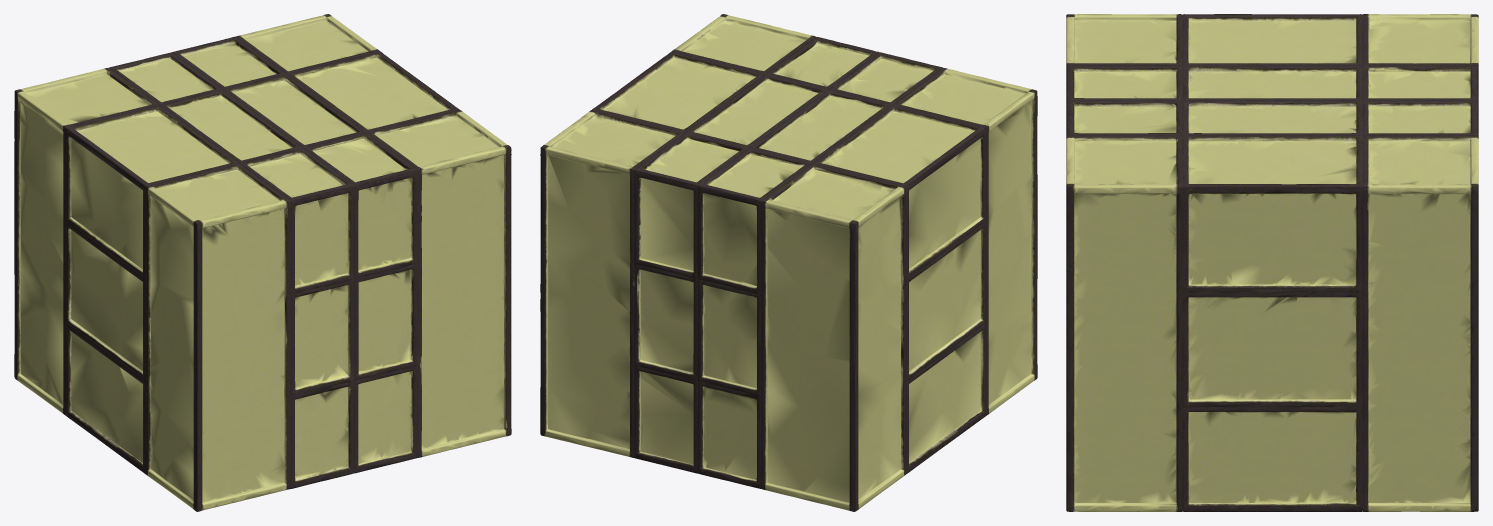
The model's file is JP_사물_s2_floor_tatami_old.glb.
The picture shows the model from 3 angles, left to right: view 1: azimuth 30°, elevation 25°; view 2: azimuth 150°, elevation 25°; view 3: azimuth 270°, elevation 25°; orthographic projection. The views are drawn at different scales.
Visible parts, largest first — view 1: tripo_node_92d0bea3-d5a4-40ef-96d4-fb2fc2e6be92; view 2: tripo_node_92d0bea3-d5a4-40ef-96d4-fb2fc2e6be92; view 3: tripo_node_92d0bea3-d5a4-40ef-96d4-fb2fc2e6be92.
Boxes of the visible parts, x1,y1,x2,y2 form: tripo_node_92d0bea3-d5a4-40ef-96d4-fb2fc2e6be92: (14,14,511,511); tripo_node_92d0bea3-d5a4-40ef-96d4-fb2fc2e6be92: (540,14,1037,511); tripo_node_92d0bea3-d5a4-40ef-96d4-fb2fc2e6be92: (1066,14,1478,511).
Size of the model in its own units: 0.9951 by 0.8707 by 0.9998.
Materials: 1 (1 with a texture image).
